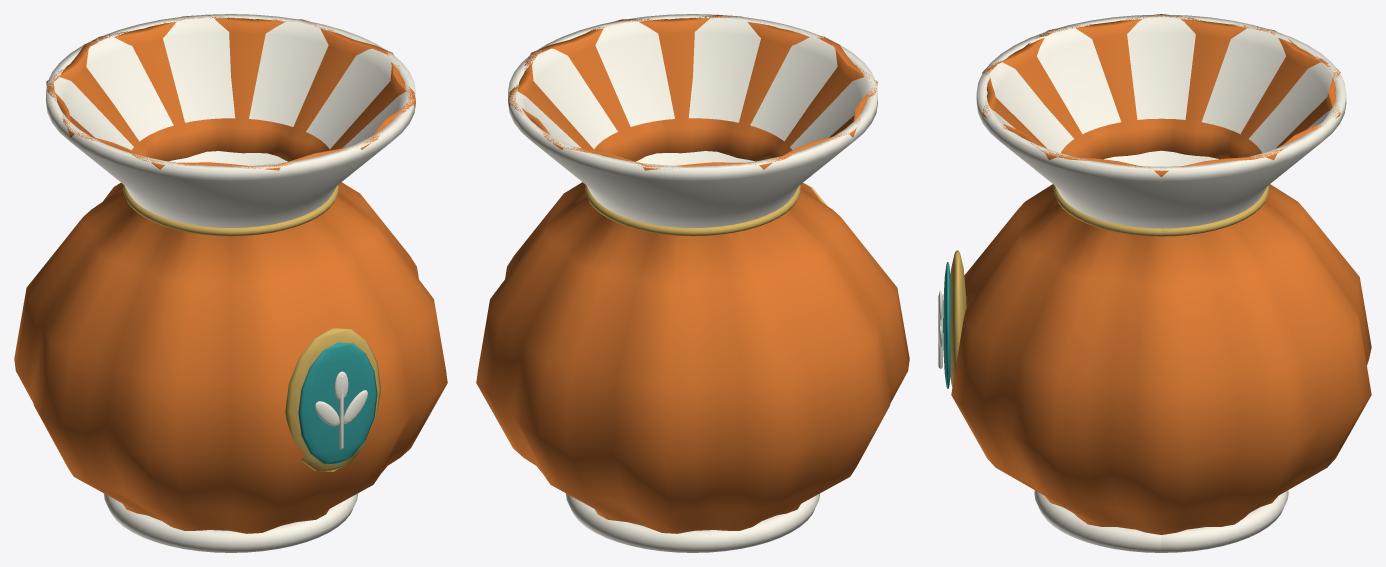
Rendered from vase_orange.glb.
3 renders of one model, left to right at view 1: azimuth 30°, elevation 25°; view 2: azimuth 150°, elevation 25°; view 3: azimuth 270°, elevation 25°, orthographic.
Visible parts, largest first — view 1: Hollow_fluted_amber_body, Cream_flared_collar, Teal_medallion, Ivory_foot, Gold_medallion, Gold_neck; view 2: Hollow_fluted_amber_body, Cream_flared_collar, Ivory_foot, Gold_neck; view 3: Hollow_fluted_amber_body, Cream_flared_collar, Ivory_foot, Gold_neck, Gold_medallion, Teal_medallion.
Boxes of the visible parts, left/top/right/bottom form: Hollow_fluted_amber_body: left=14, top=15, right=447, bottom=533; Cream_flared_collar: left=46, top=14, right=415, bottom=227; Teal_medallion: left=298, top=342, right=377, bottom=464; Ivory_foot: left=103, top=493, right=358, bottom=552; Gold_medallion: left=285, top=328, right=380, bottom=471; Gold_neck: left=123, top=184, right=338, bottom=236; Hollow_fluted_amber_body: left=476, top=15, right=909, bottom=533; Cream_flared_collar: left=508, top=14, right=877, bottom=227; Ivory_foot: left=565, top=493, right=820, bottom=552; Gold_neck: left=585, top=184, right=800, bottom=236; Hollow_fluted_amber_body: left=951, top=14, right=1371, bottom=534; Cream_flared_collar: left=976, top=14, right=1346, bottom=228; Ivory_foot: left=1034, top=490, right=1288, bottom=552; Gold_neck: left=1053, top=185, right=1269, bottom=236; Gold_medallion: left=950, top=250, right=966, bottom=386; Teal_medallion: left=943, top=262, right=950, bottom=388.
Size of the model in its own units: 0.1822 by 0.19 by 0.1806.
